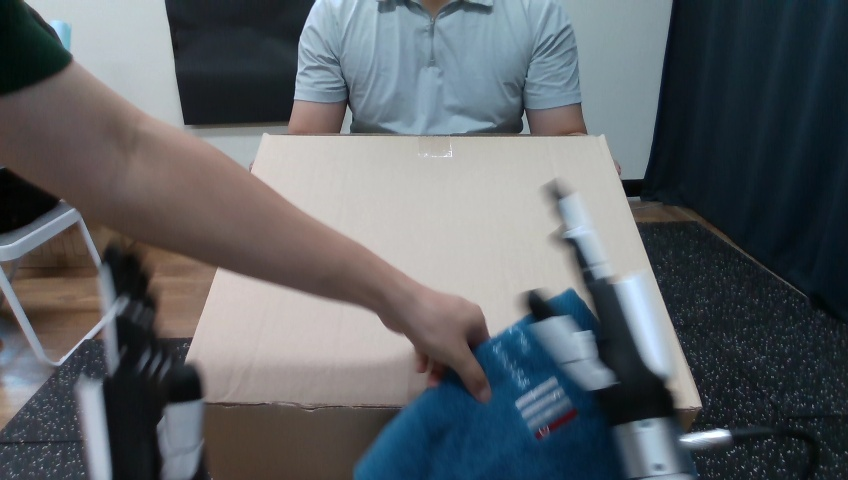left robot hand: (77, 244, 203, 478), (377, 279, 490, 401)
